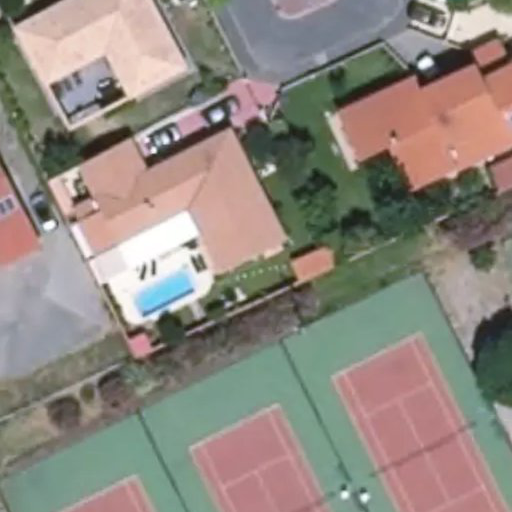pool: (226, 219, 283, 264)
